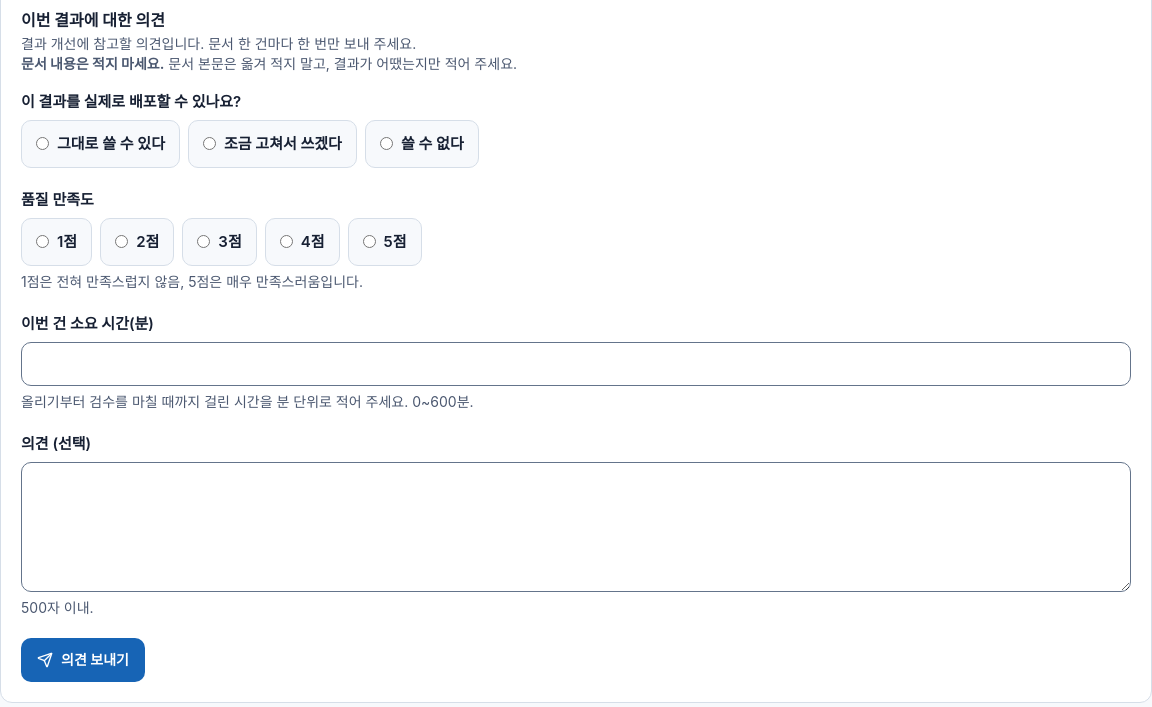
Test: 검수 피드백 폼 › 보내고 나면 성공을 알린다
Click the radio button labelled "조금 고쳐서 쓰겠다".
click(210, 144)  # box [203, 137, 216, 150]
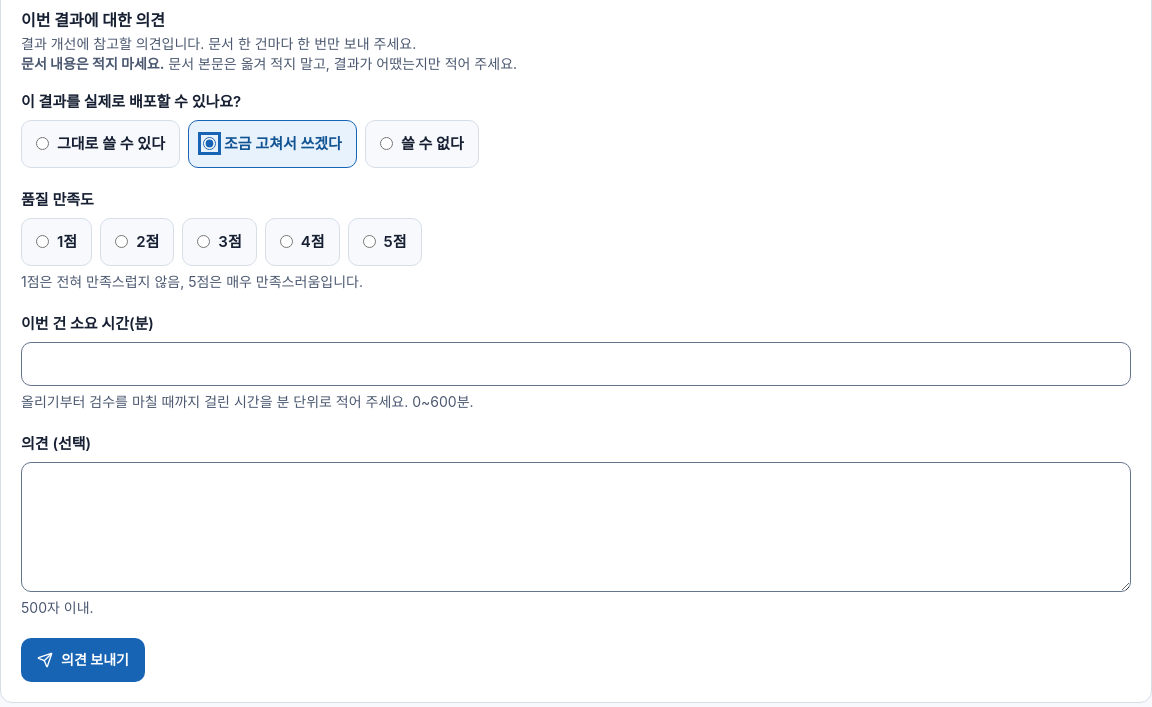
Click the radio button labelled "4점".
click(286, 242)  # box [280, 235, 293, 248]
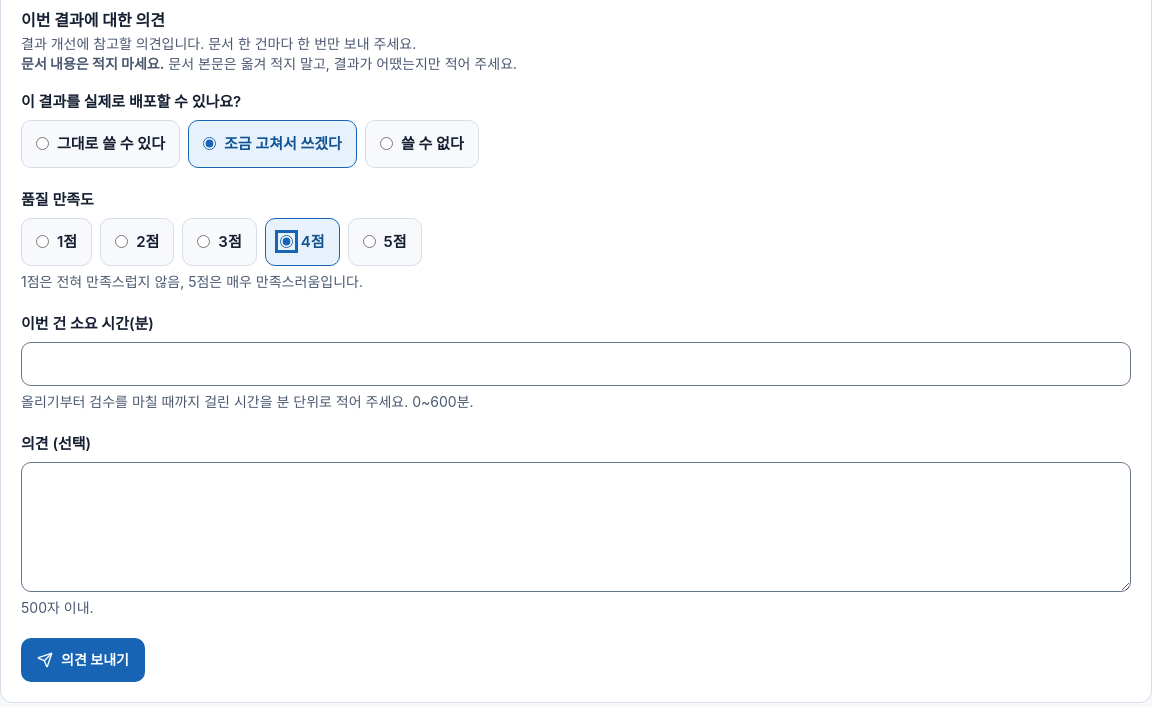
Type "25" into the number field labelled "이번 건 소요 시간(분)".
click(576, 364); type("25")  # box [21, 342, 1131, 386]
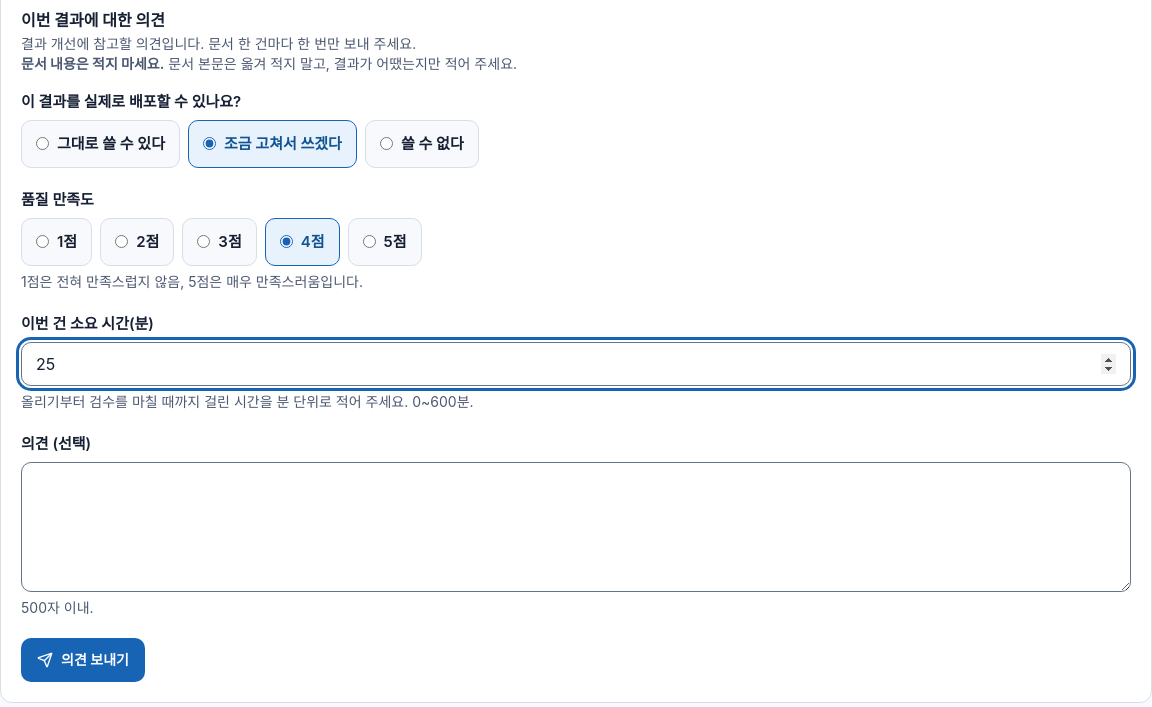
Click the button "의견 보내기".
click(83, 660)  # box [21, 638, 145, 682]
(page scrolled)
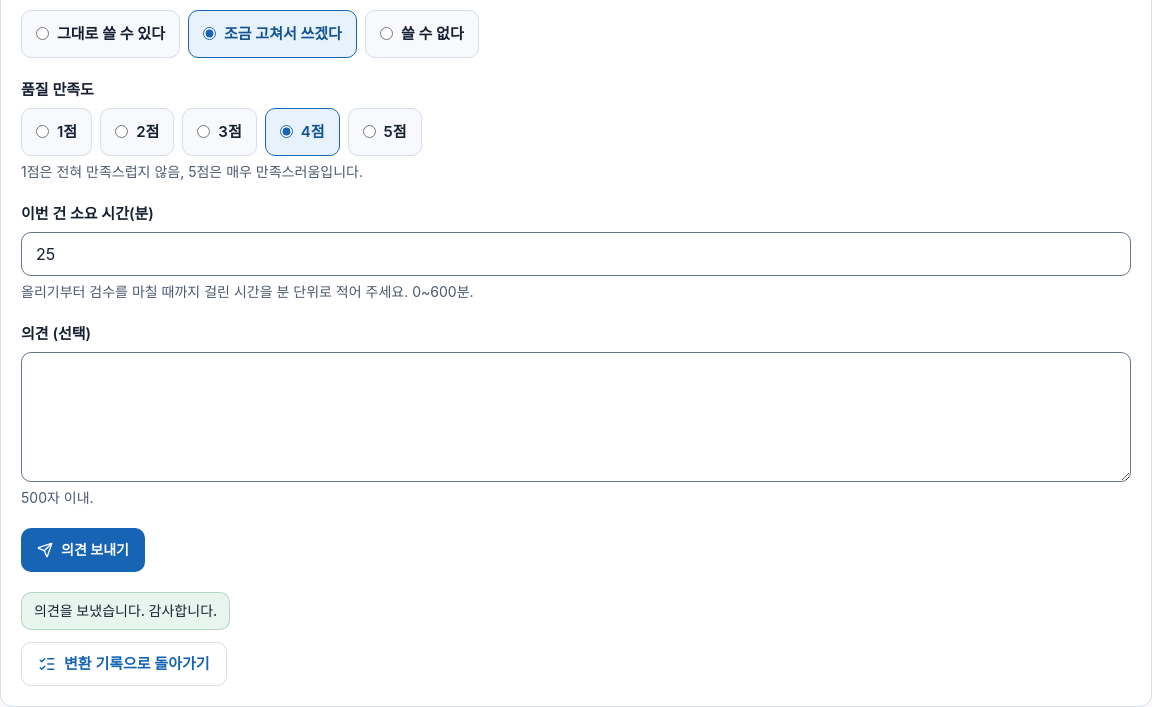
Expected: the message reads "의견을 보냈습니다. 감사합니다.", [34, 602, 217, 619]
